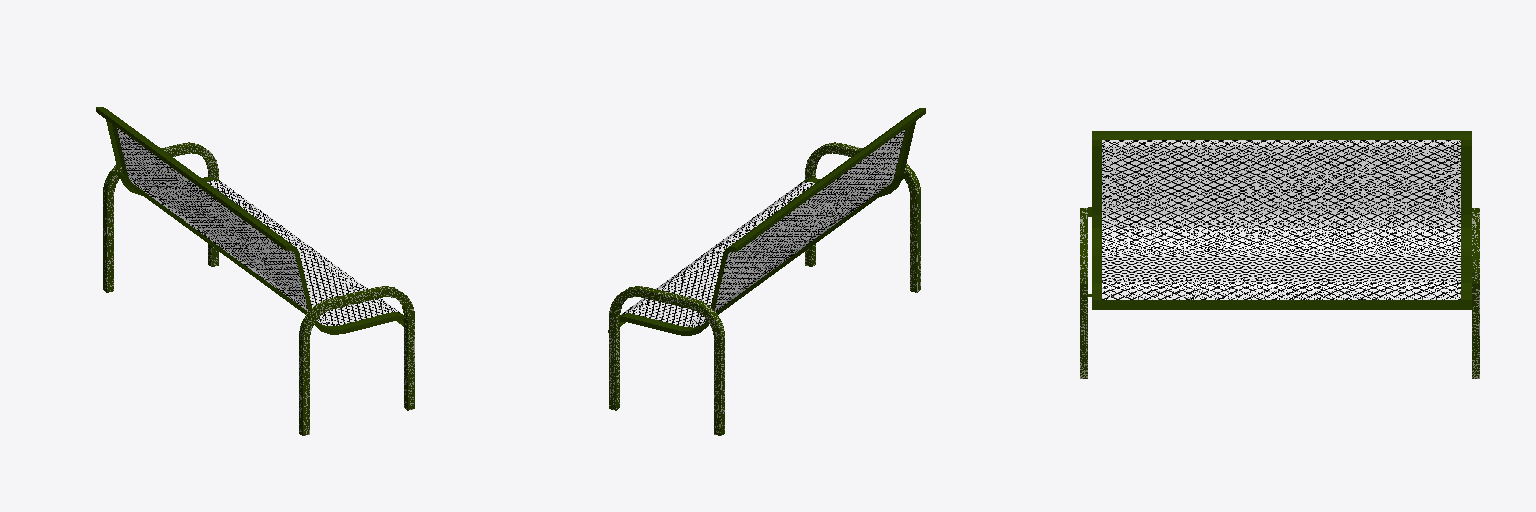
3 renders of one model, left to right at view 1: azimuth 30°, elevation 25°; view 2: azimuth 150°, elevation 25°; view 3: azimuth 270°, elevation 25°, orthographic.
Parts seen in each view (by area): view 1: mesh6_mesh6-geometry, mesh3.001_mesh3-geometry, mesh3.002_mesh3-geometry, mesh2.001_mesh2-geometry, mesh5_mesh5-geometry, mesh1.001_mesh1-geometry; view 2: mesh6_mesh6-geometry, mesh3.002_mesh3-geometry, mesh3.001_mesh3-geometry, mesh1.001_mesh1-geometry, mesh5_mesh5-geometry, mesh2.001_mesh2-geometry; view 3: mesh6_mesh6-geometry, mesh1.001_mesh1-geometry, mesh2.001_mesh2-geometry, mesh3.002_mesh3-geometry, mesh3.001_mesh3-geometry.
Boxes of the visible parts, x1=… form: mesh6_mesh6-geometry: x1=96, y1=108, x2=401, y2=325; mesh3.001_mesh3-geometry: x1=299, y1=286, x2=414, y2=435; mesh3.002_mesh3-geometry: x1=103, y1=142, x2=218, y2=292; mesh2.001_mesh2-geometry: x1=282, y1=242, x2=403, y2=334; mesh5_mesh5-geometry: x1=116, y1=171, x2=307, y2=314; mesh1.001_mesh1-geometry: x1=96, y1=107, x2=220, y2=195; mesh6_mesh6-geometry: x1=621, y1=109, x2=925, y2=327; mesh3.002_mesh3-geometry: x1=609, y1=286, x2=724, y2=435; mesh3.001_mesh3-geometry: x1=805, y1=142, x2=920, y2=292; mesh1.001_mesh1-geometry: x1=608, y1=243, x2=740, y2=335; mesh5_mesh5-geometry: x1=716, y1=171, x2=907, y2=314; mesh2.001_mesh2-geometry: x1=801, y1=108, x2=925, y2=196; mesh6_mesh6-geometry: x1=1102, y1=131, x2=1460, y2=309; mesh1.001_mesh1-geometry: x1=1461, y1=131, x2=1471, y2=309; mesh2.001_mesh2-geometry: x1=1092, y1=131, x2=1101, y2=309; mesh3.002_mesh3-geometry: x1=1472, y1=208, x2=1479, y2=378; mesh3.001_mesh3-geometry: x1=1080, y1=208, x2=1087, y2=378.
Bounding box in the file's own units: 0.3129 × 0.4372 × 0.8432.
Materials: 3 (1 with a texture image).